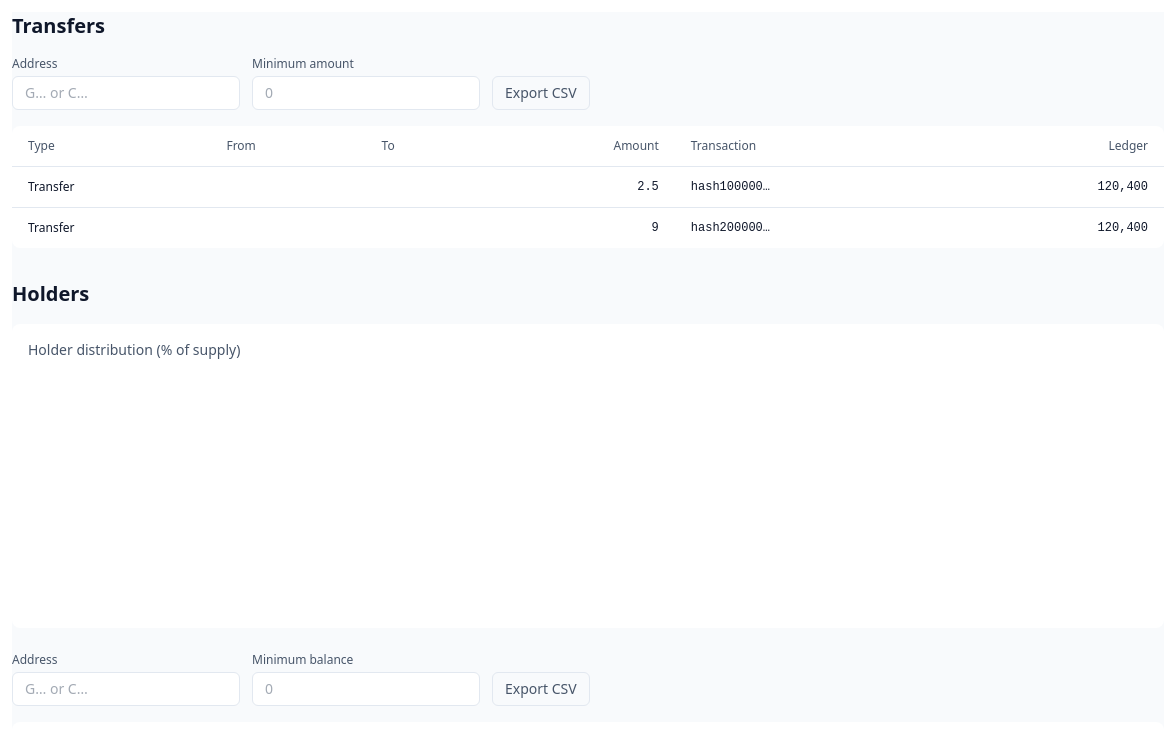
Test: ContractTokensPanel › filters transfers by address and amount
Expected: the text "9" is shown, 480,208 -> 675,248
In the field labelled "Address" below "Minimum amount": (126,93) 12,76 -> 240,110, type "GCCC"
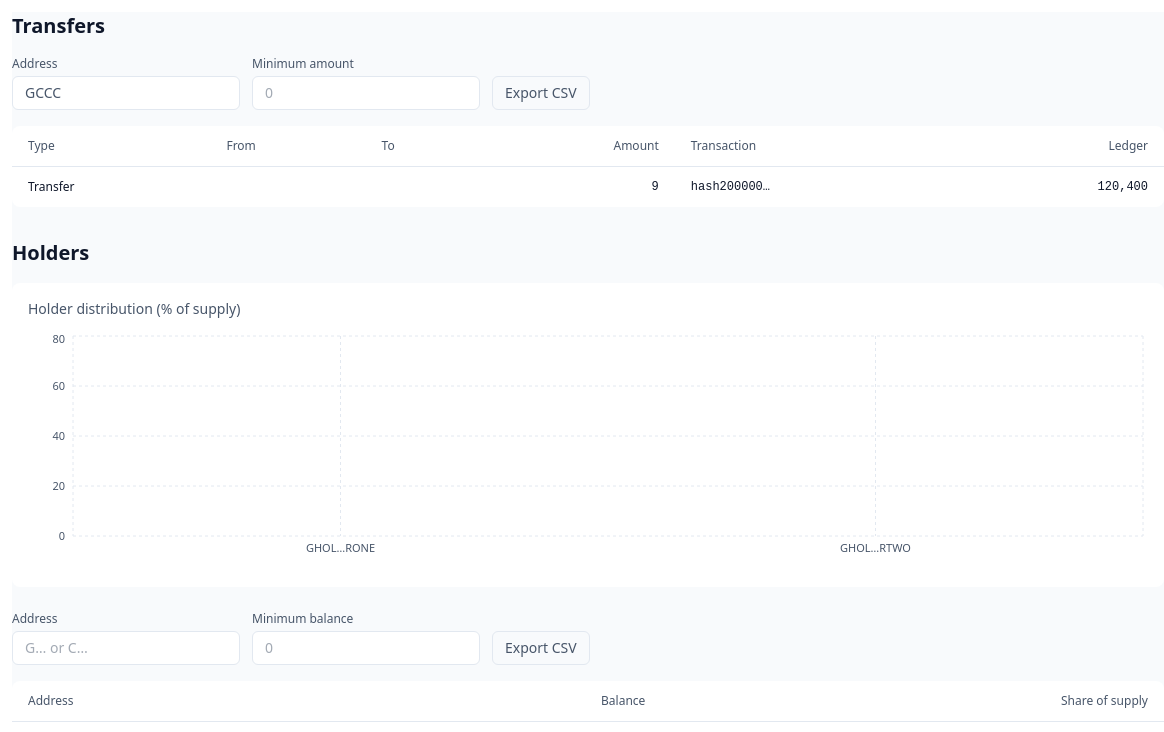
Expected: the text "2.5" is not shown
Expected: the text "9" is shown, 480,166 -> 675,207
Clear the field labelled "Address" below "Minimum amount": (126,93) 12,76 -> 240,110
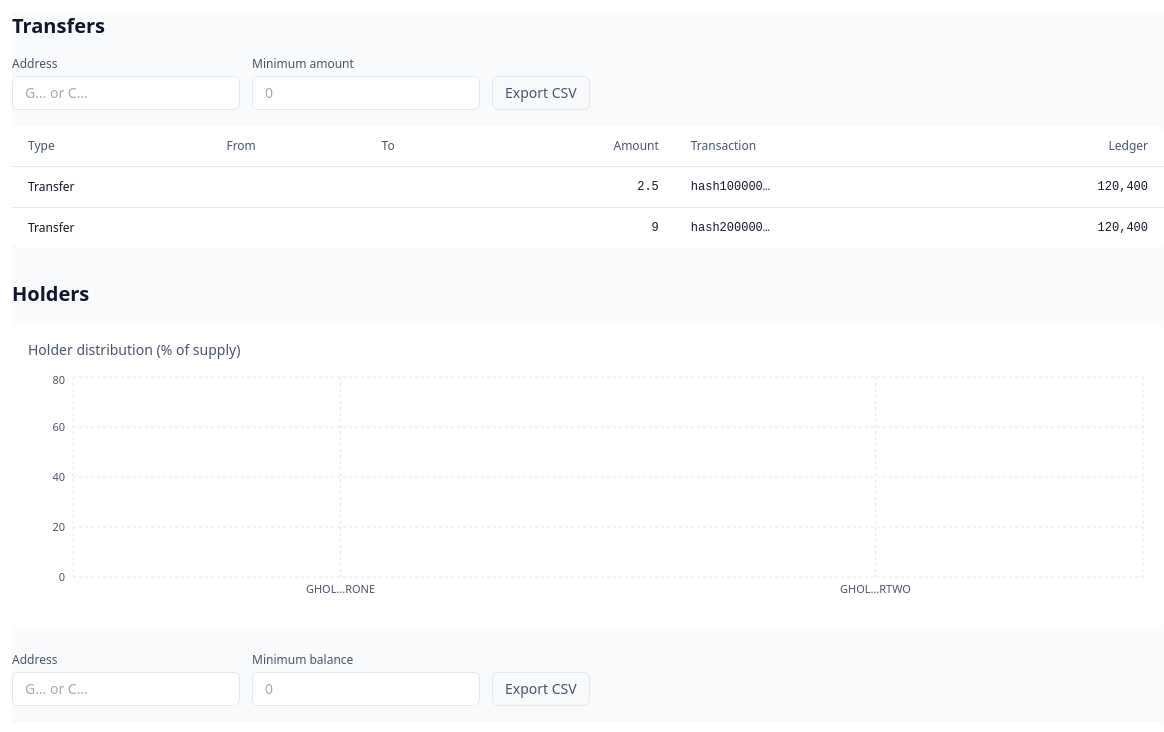
In the field labelled "Minimum amount": (366,93) 252,76 -> 480,110, type "5"
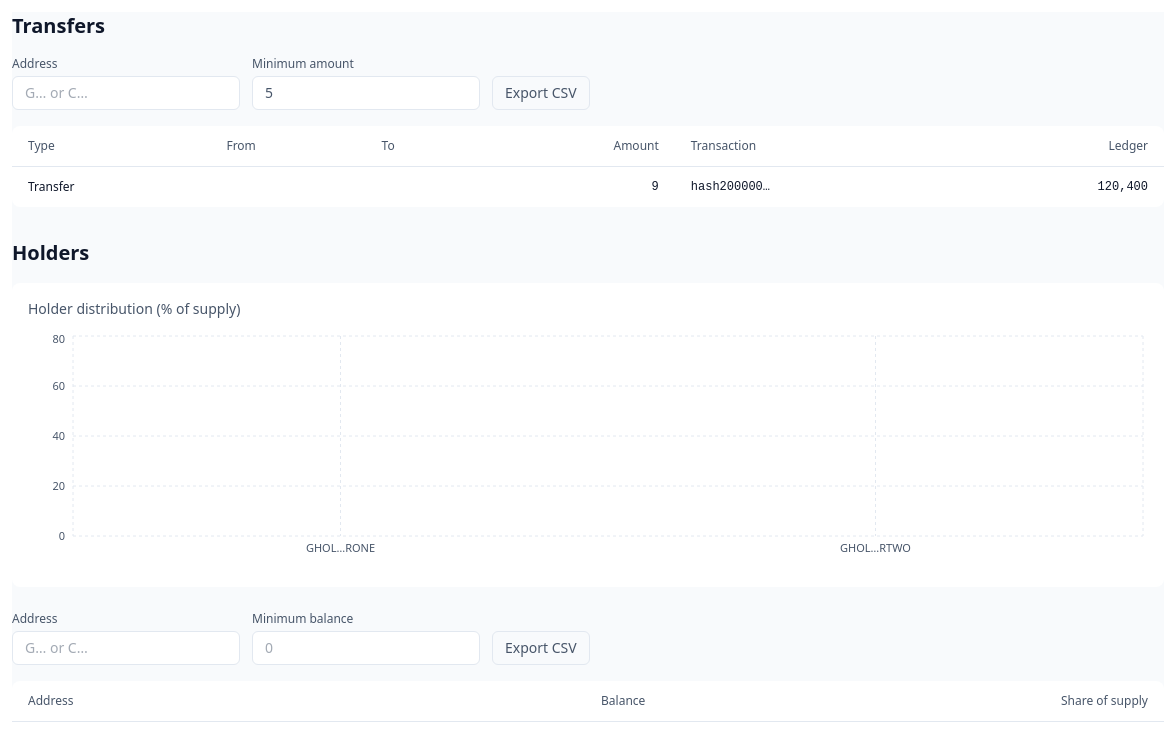
Expected: the text "2.5" is not shown
Replace the text in the field labelled "Minimum amount" with "abc": (366,93) 252,76 -> 480,110
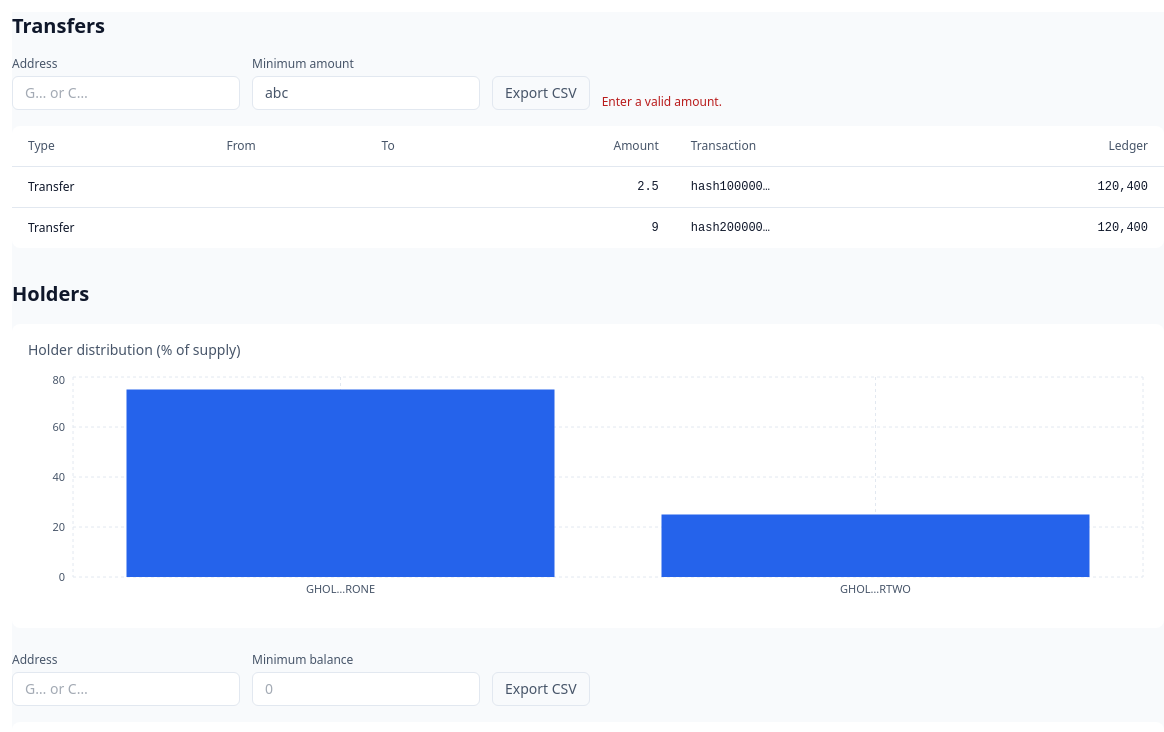
Expected: the message reads "Enter a valid amount.", 602,93 -> 722,110
